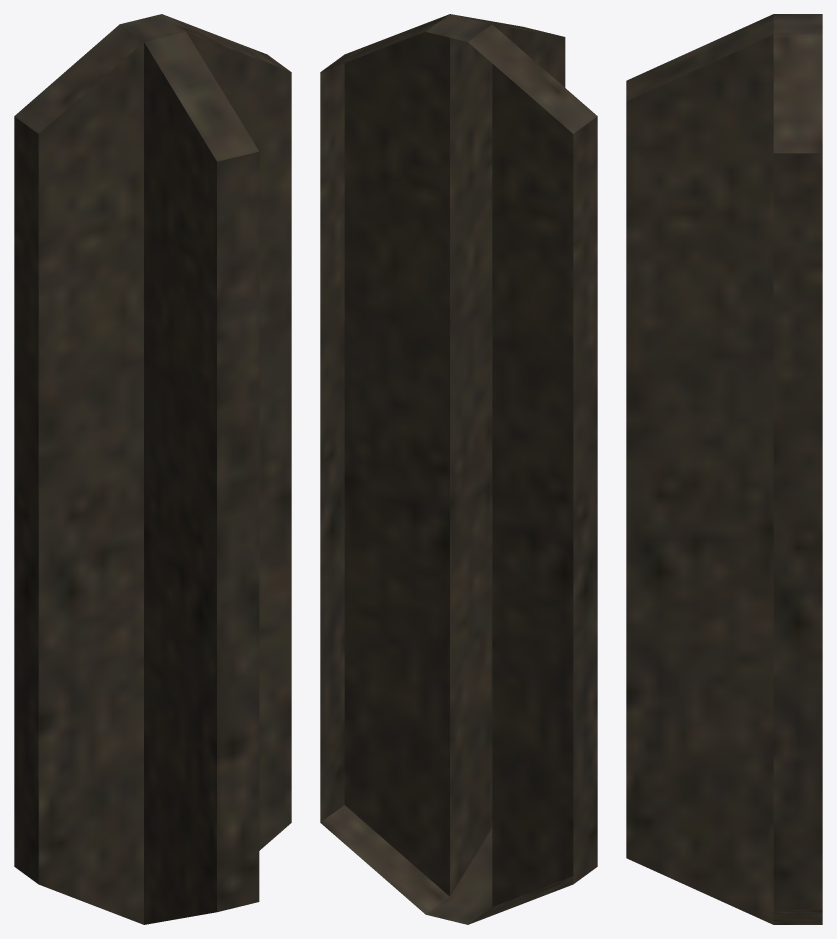
The model's file is wires_holder_hr_large_1.obj.
3 views of the same model, side by side, from view 1: azimuth 30°, elevation 25°; view 2: azimuth 150°, elevation 25°; view 3: azimuth 270°, elevation 25° (orthographic).
Visible parts, largest first — view 1: wires_holder_hr_large_1; view 2: wires_holder_hr_large_1; view 3: wires_holder_hr_large_1.
Boxes of the visible parts, box(x1,y1,x2,y2) form: wires_holder_hr_large_1: box(14, 14, 291, 924); wires_holder_hr_large_1: box(320, 14, 597, 924); wires_holder_hr_large_1: box(626, 14, 822, 924).
Size of the model in its own units: 0.12 by 0.4 by 0.08.
